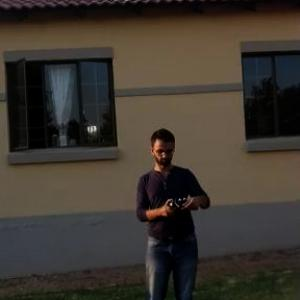follow: (129, 122, 216, 299)
